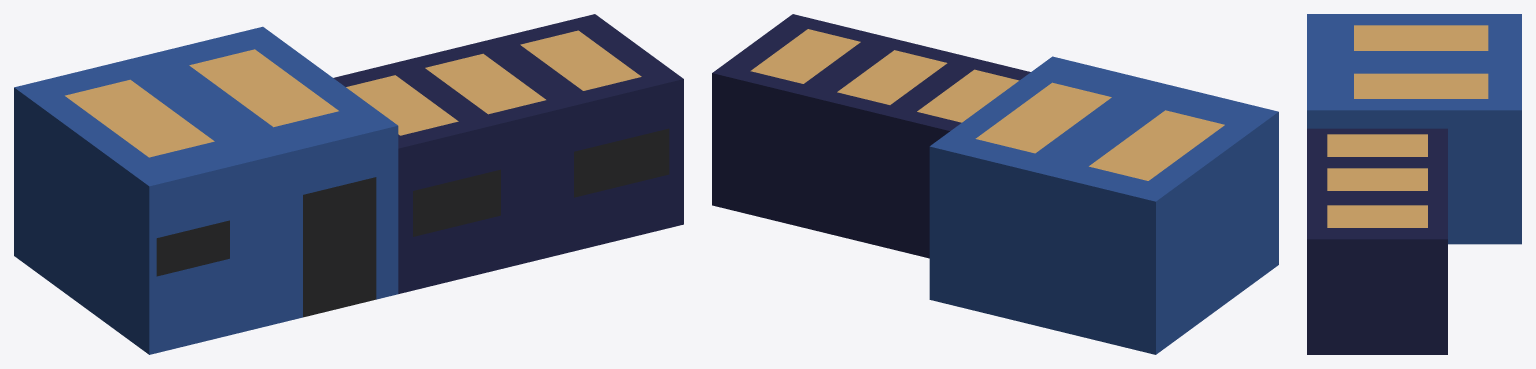
Rendered from small_storage_buildings.obj.
The picture shows the model from 3 angles, left to right: view 1: azimuth 30°, elevation 25°; view 2: azimuth 150°, elevation 25°; view 3: azimuth 270°, elevation 25°; orthographic projection. The views are drawn at different scales.
Size of the model in its own units: 73 by 22 by 32.
